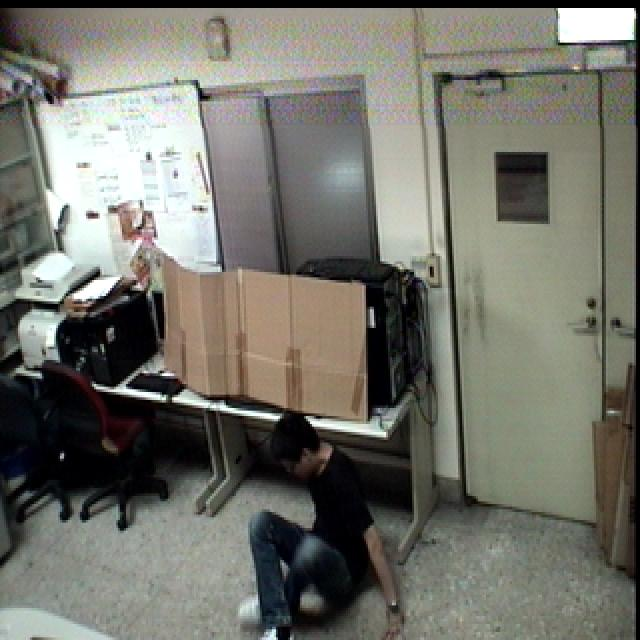sit: (236, 402, 410, 640)
